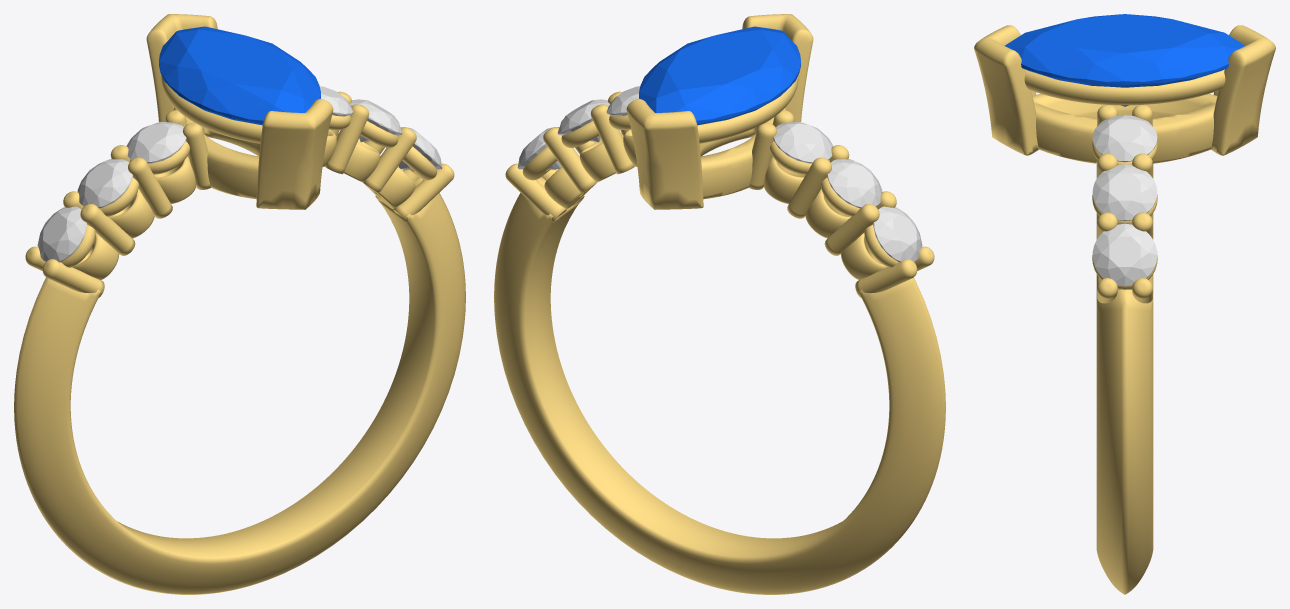
The model's file is bluesapphire-marquise-yellowgold-protectededges2prongs-knifeedge-7stone.glb.
3 views of the same model, side by side, from view 1: azimuth 30°, elevation 25°; view 2: azimuth 150°, elevation 25°; view 3: azimuth 270°, elevation 25° (orthographic).
Parts seen in each view (by area): view 1: metal, stone.002, dia.001, dia.009, dia.010, dia.012, dia.011; view 2: metal, stone.002, dia.001, dia.009, dia.010, dia.012, dia.011; view 3: metal, stone.002, dia.011, dia.012, dia.013.
Boxes of the visible parts, x1,y1,x2,y2 form: metal: (14,14,465,594); stone.002: (159,26,320,125); dia.001: (37,206,86,262); dia.009: (77,159,132,208); dia.010: (126,122,186,163); dia.012: (350,99,402,142); dia.011: (398,127,442,169); metal: (494,14,945,594); stone.002: (639,26,800,125); dia.001: (873,206,922,262); dia.009: (827,159,882,208); dia.010: (773,122,833,163); dia.012: (557,99,609,142); dia.011: (517,127,561,169); metal: (974,25,1275,594); stone.002: (1004,14,1245,106); dia.011: (1092,223,1157,286); dia.012: (1092,164,1157,220); dia.013: (1092,114,1157,162).
Size of the model in its own units: 20.5 by 22.93 by 11.69.
